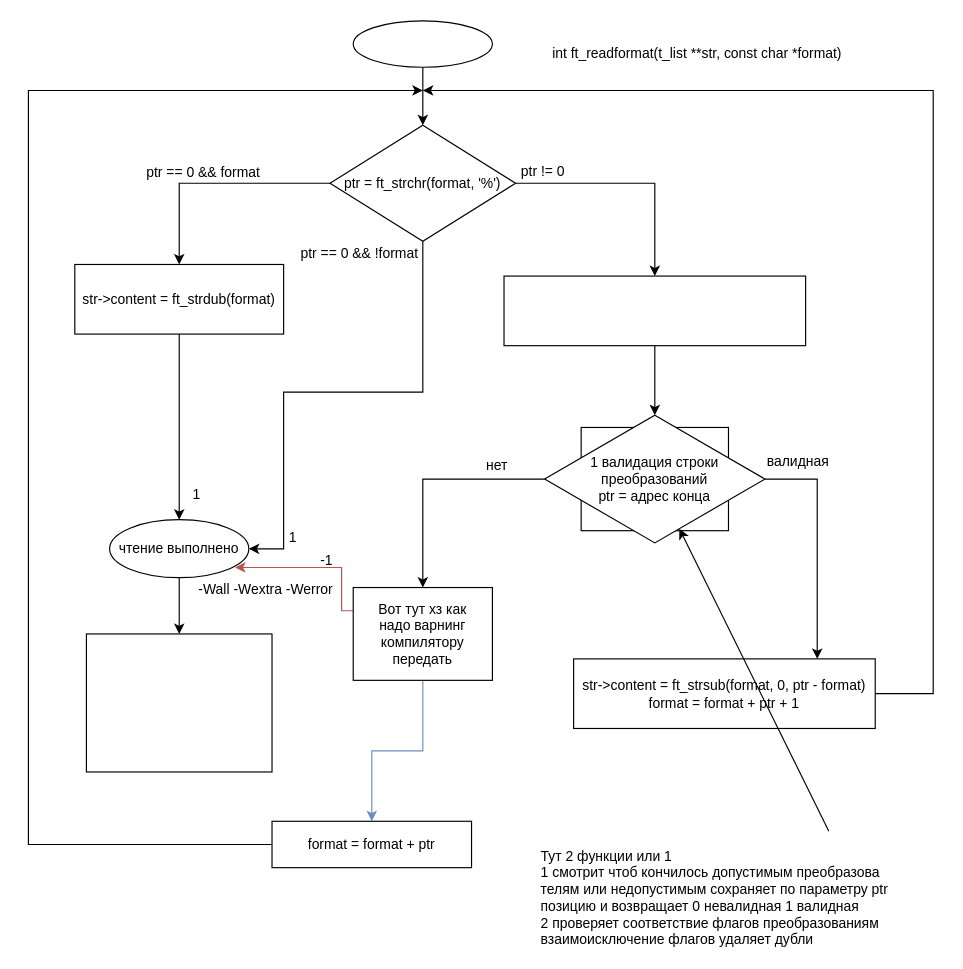
Some shapes in this 963 by 969 pixel diagram are drawn without their labels. Here are the shapes that lost their labels. From the top down, the centre of each, then its label:
At point (422, 43): "чтение format".
At point (654, 310): "str->content = ft_strsub(format, 0, ptr - format) format = format + ptr".
At point (178, 702): "В результате имеем связаный список строк и строк преобразований".
